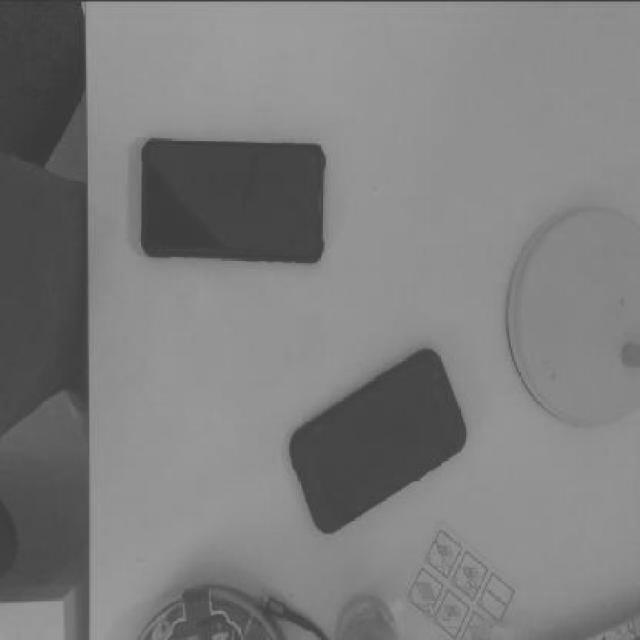fake: (290, 344, 468, 536), (138, 129, 326, 263)
